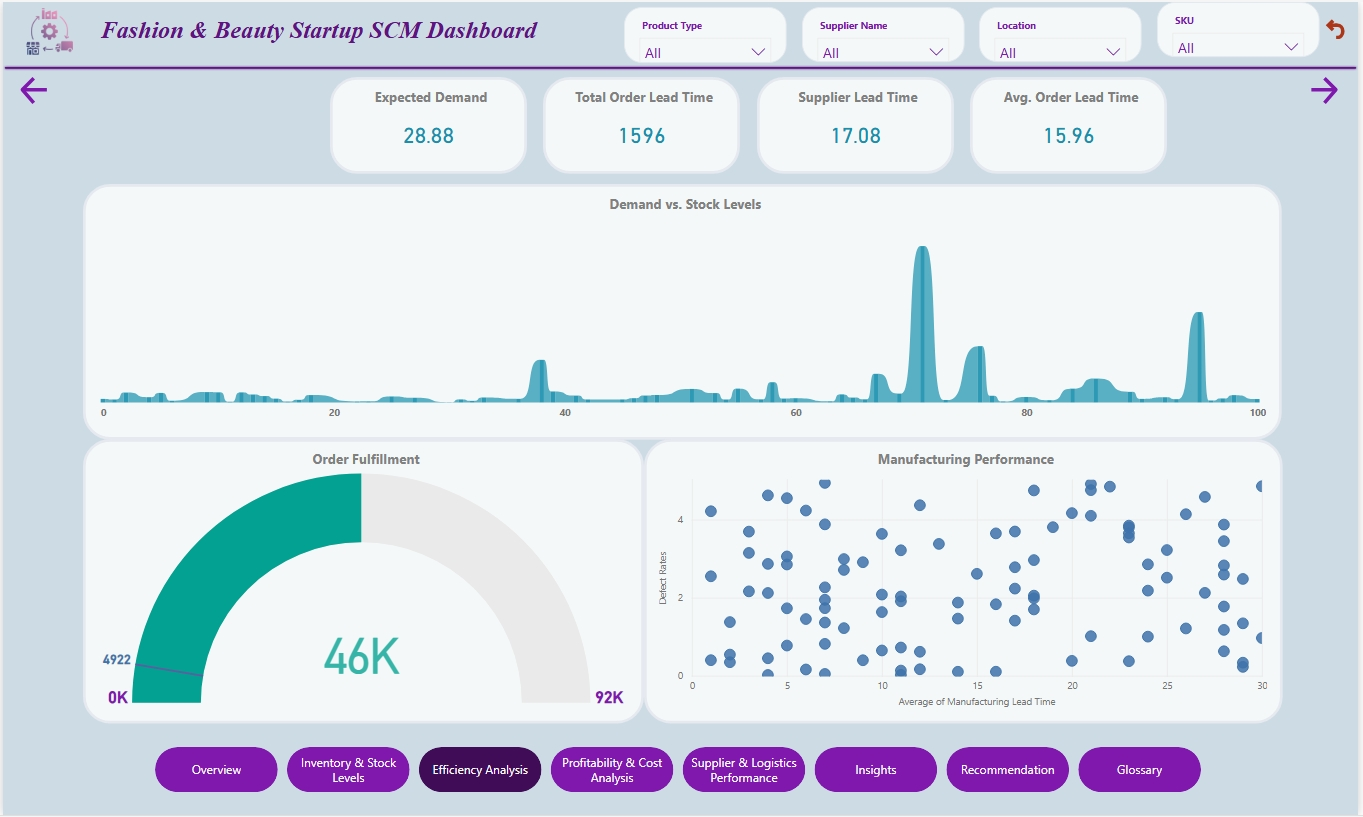

Layout of this report page (visuals, bound fields, positions):
{"tool":"powerbi","page":{"name":"Efficiency Analysis","canvas":[1500,900],"ordinal":2},"visuals":[{"type":"textbox","box":[103.2,11,554.4,46],"z":0},{"type":"ribbonChart","title":"Demand vs. Stock Levels","fields":{"Category":["supply_chain_data.Stock Levels"],"Y":[" Measures.Expected Demand"]},"box":[88.7,201.3,1327.4,282.9],"z":1000},{"type":"image","box":[0,0,103.2,65.1],"z":2000},{"type":"shape","box":[0,40,1500.4,66.2],"z":3000},{"type":"card","title":"Expected Demand","fields":{"Values":[" Measures.Expected Demand"]},"box":[362.1,83,217.7,106.6],"z":4000},{"type":"card","title":"Total Order Lead Time","fields":{"Values":["Sum(supply_chain_data.Order Lead Times)"]},"box":[598.3,83,217.7,106.6],"z":5000},{"type":"card","title":"Supplier Lead Time","fields":{"Values":["Avg(supply_chain_data.Supplier Lead Time)"]},"box":[834.5,83,217.7,106.6],"z":6000},{"type":"scatterChart","title":"Manufacturing Performance","fields":{"Y":["supply_chain_data.Defect Rates"],"X":["Avg(supply_chain_data.Manufacturing Lead Time)"]},"box":[709.5,484.2,706.6,315.3],"z":7000},{"type":"gauge","title":"Order Fulfillment","fields":{"TargetValue":["Sum(supply_chain_data.Order Quantities)"],"Y":["Sum(supply_chain_data.Number of Products Sold)"]},"box":[88.7,484.2,620.8,315.3],"z":8000},{"type":"pageNavigator","box":[168.3,824.8,1162.6,50.5],"z":9000},{"type":"slicer","fields":{"Values":["supply_chain_data.Product Type"]},"box":[687.6,5,180,62],"z":10000},{"type":"slicer","fields":{"Values":["supply_chain_data.Supplier Name"]},"box":[884.1,5,180,61.1],"z":11000},{"type":"slicer","fields":{"Values":["supply_chain_data.Location"]},"box":[1080.5,5,180,61.1],"z":12000},{"type":"slicer","fields":{"Values":["supply_chain_data.SKU"]},"box":[1277,0,180,61.1],"z":13000},{"type":"actionButton","box":[1460,0,40,60.5],"z":14000},{"type":"actionButton","box":[1442.9,78.8,56.3,39.4],"z":15000},{"type":"actionButton","box":[15.5,78.8,99.9,39.4],"z":16000},{"type":"card","title":"Avg. Order Lead Time","fields":{"Values":["Avg(supply_chain_data.Order Lead Times)"]},"box":[1070.3,83.4,217.8,106.6],"z":17000}]}

Visuals, with their boxes in screenshot pixels (x1, y1, x2, y2), scaled from the page's 1500x900 canvas onto the 1363x817 screenshot:
textbox: (94,10,598,52)
"Demand vs. Stock Levels" ribbonChart: (81,183,1287,440)
image: (0,0,94,59)
shape: (0,36,1362,96)
"Expected Demand" card: (329,75,527,172)
"Total Order Lead Time" card: (544,75,741,172)
"Supplier Lead Time" card: (758,75,956,172)
"Manufacturing Performance" scatterChart: (645,440,1287,726)
"Order Fulfillment" gauge: (81,440,645,726)
pageNavigator: (153,749,1209,795)
slicer - supply_chain_data.Product Type: (625,5,788,61)
slicer - supply_chain_data.Supplier Name: (803,5,967,60)
slicer - supply_chain_data.Location: (982,5,1145,60)
slicer - supply_chain_data.SKU: (1160,0,1324,55)
actionButton: (1327,0,1362,55)
actionButton: (1311,72,1362,107)
actionButton: (14,72,105,107)
"Avg. Order Lead Time" card: (973,76,1170,172)
